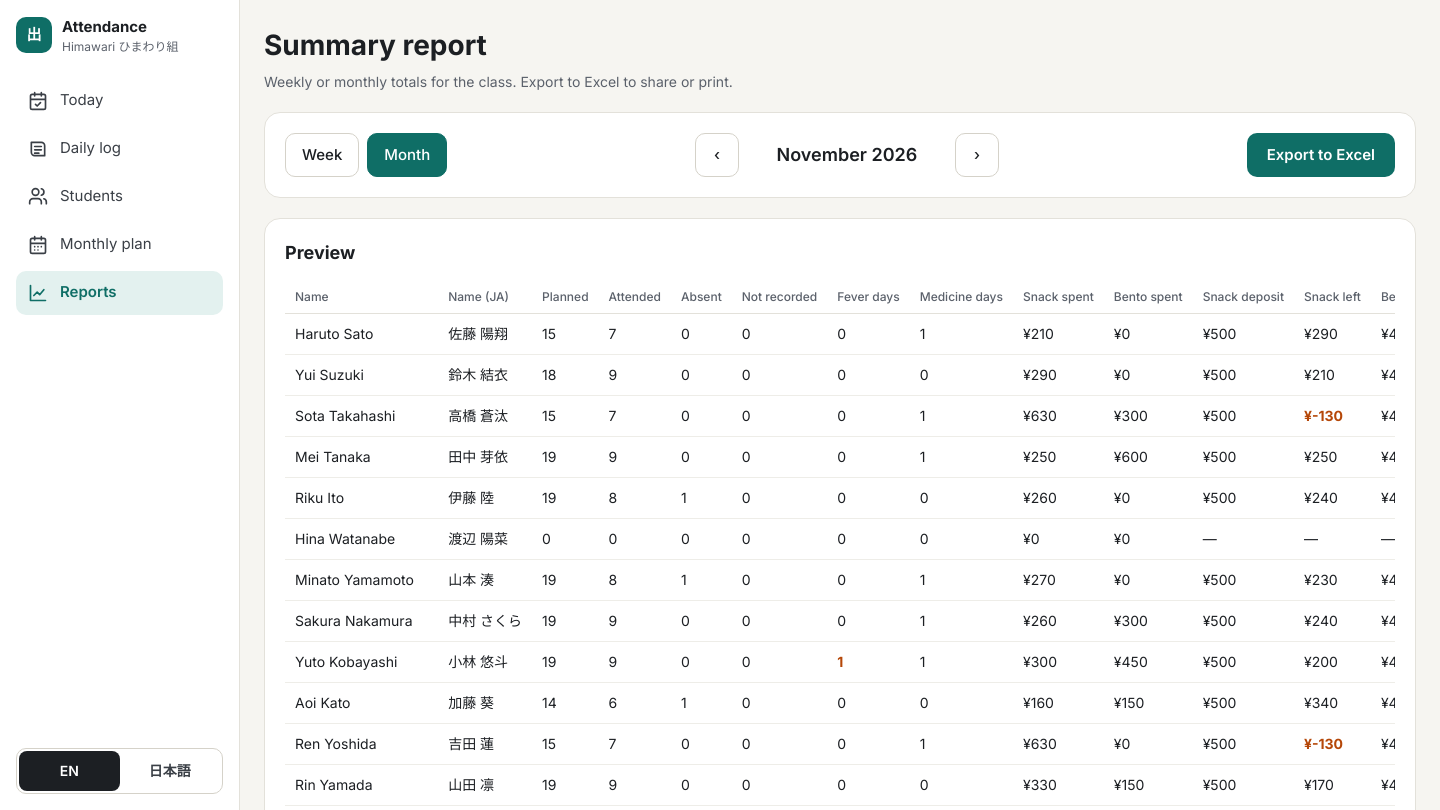
Test: Reports › previews the monthly summary and switches to a week
Expected: the text "Haruto Sato" is shown, [285, 314, 438, 354]
Expected: the text with test id "period-label" reads "November 2026", [777, 144, 917, 165]
Step 1. Click the button "Week" → (322, 155), box [285, 133, 359, 177]
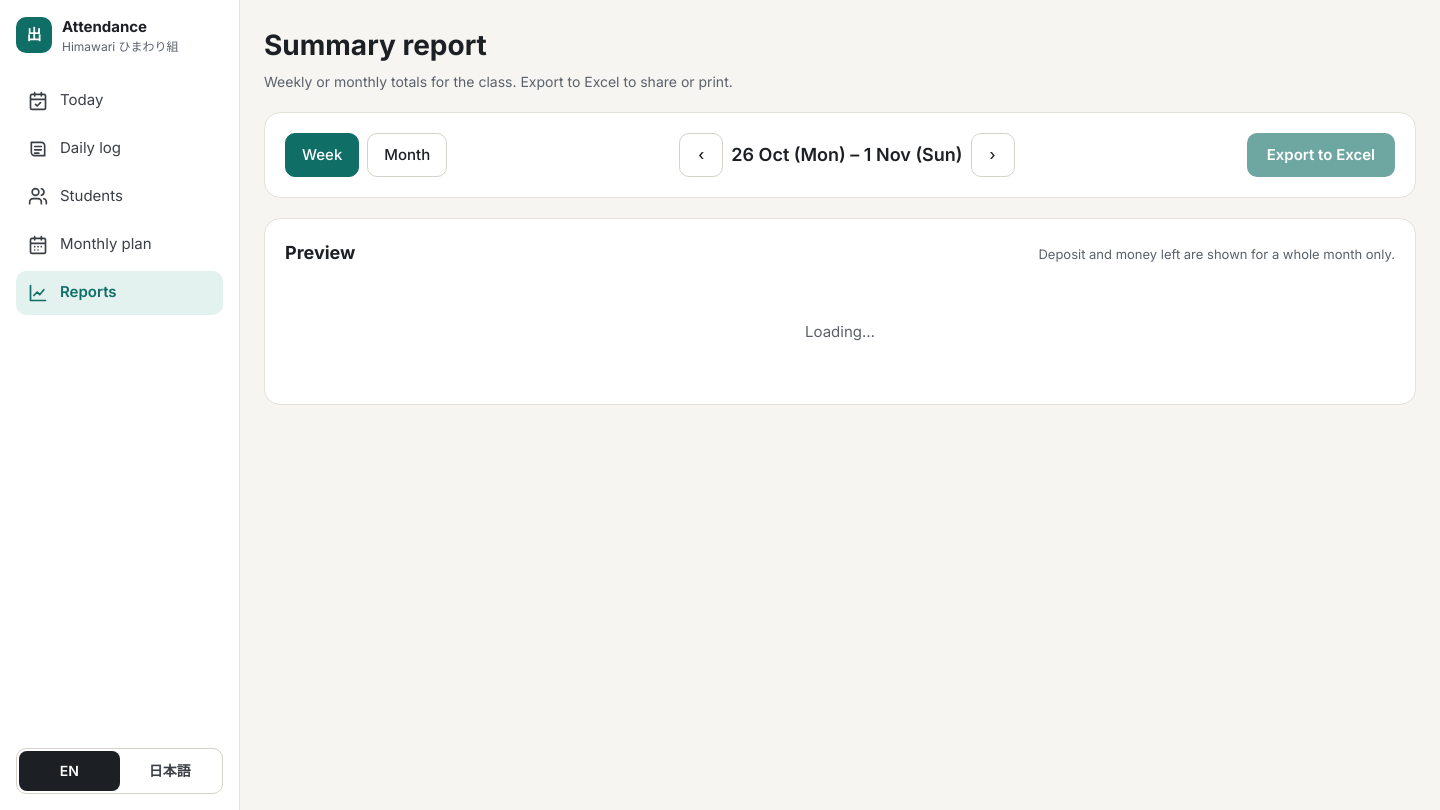
Now the text with test id "period-label" reads "26 Oct (Mon) – 1 Nov (Sun)", box [731, 144, 963, 165]
Now the column heading "Snack left" is gone
Step 2. Click the button named "Next period" → (993, 155), box [971, 133, 1015, 177]
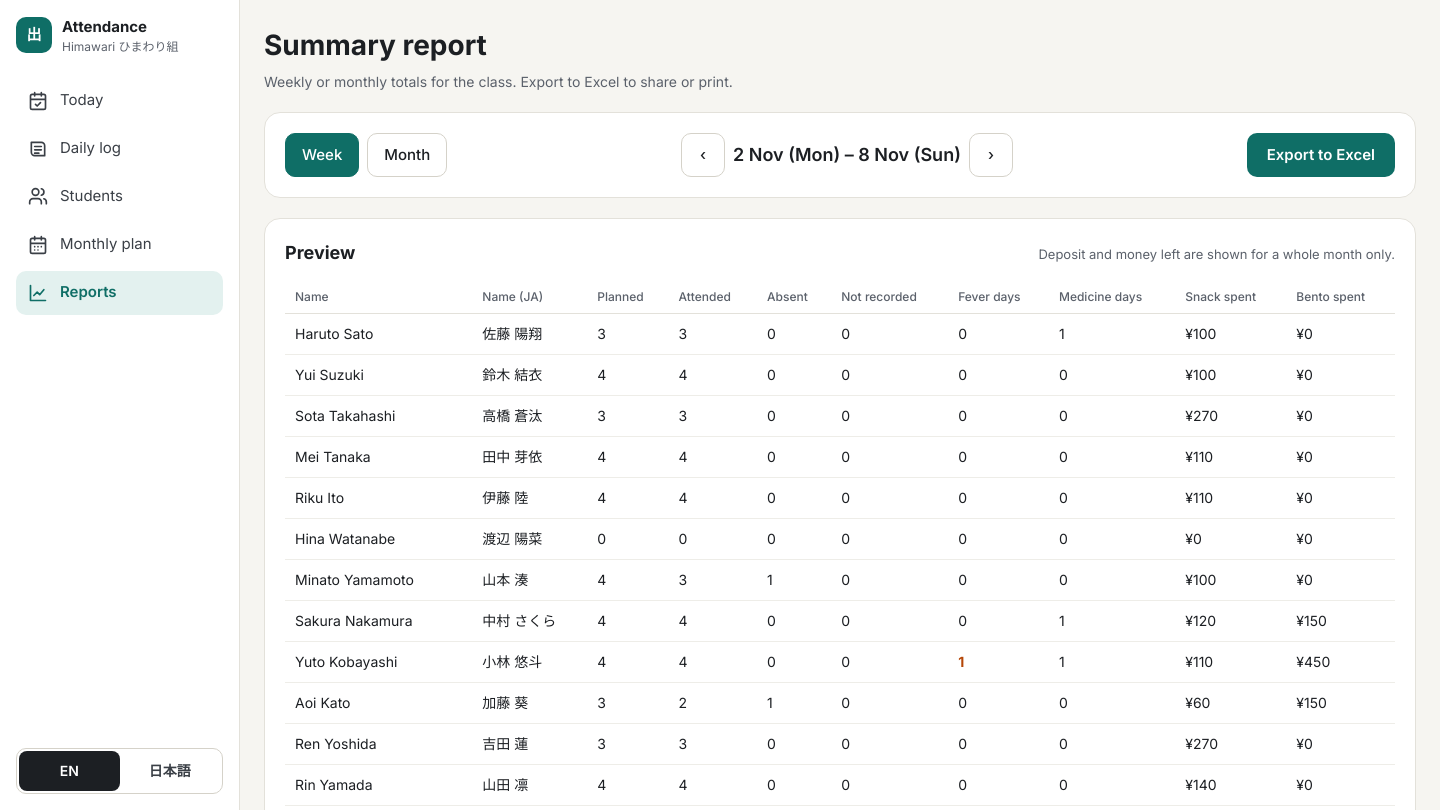
Now the text with test id "period-label" reads "2 Nov (Mon) – 8 Nov (Sun)", box [733, 144, 961, 165]
